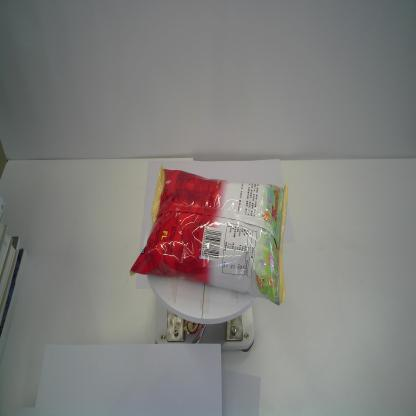Puffed Food: (128, 162, 290, 309)
